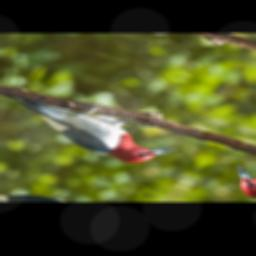Woodpecker: (0, 80, 192, 172)
